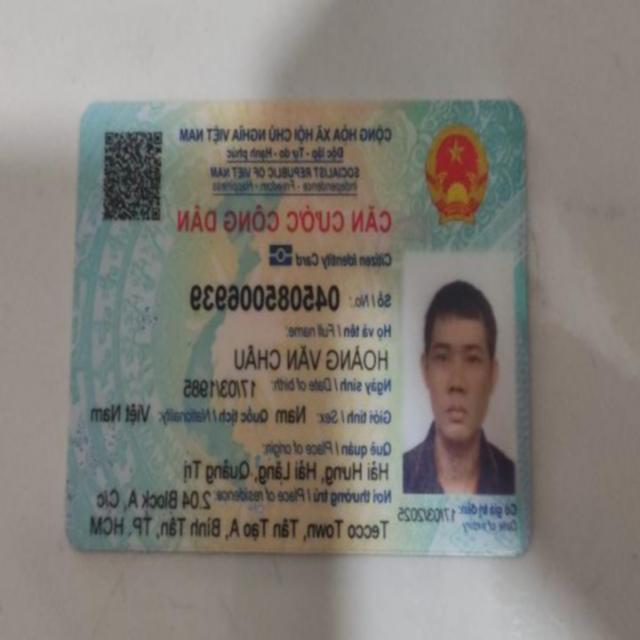bottom_left: (496, 522, 546, 571)
bottom_right: (54, 517, 100, 566)
image_person: (400, 254, 516, 493)
top_left: (494, 89, 538, 136)
top_right: (68, 92, 112, 134)
